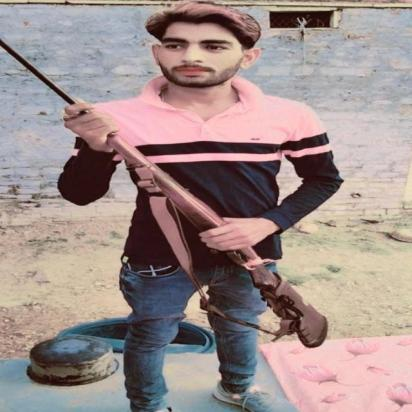Gun: (0, 37, 331, 350)
